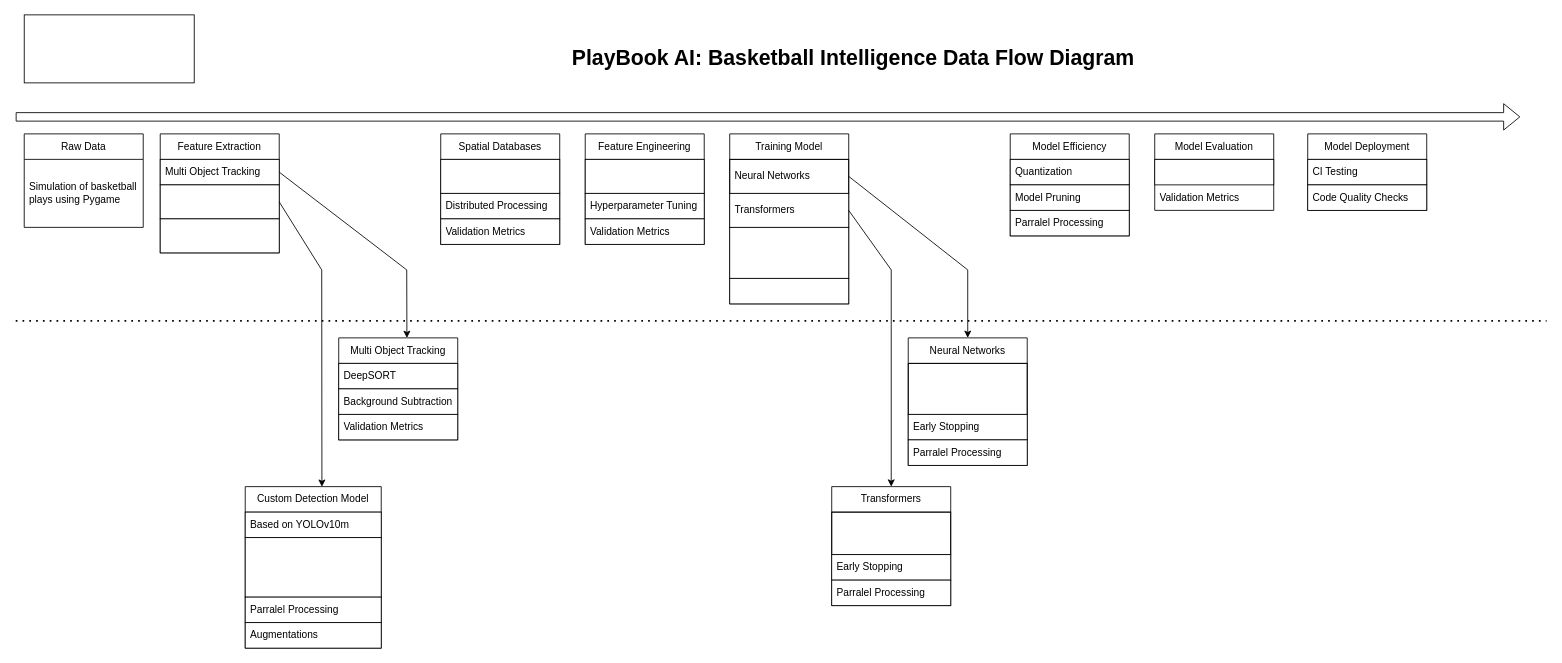
Image size: 1562x663. Some labels were removed from this diagram. Here are the shapes that lost their labels. From the top down, the centre of each, then its label:
[108,48]: Cloud Solution - Google Cloud Platform - GPU-accelerated programming
[500,176]: BigQuery to store/process data
[644,176]: Dimensionality Reduction
[1214,172]: Performance Metrics
[219,201]: Custom Object Detection Model
[219,235]: Batch Processing
[789,252]: Ensemble Methods - Voting - Stacking
[789,291]: Paralel Processing
[967,388]: - LSTM - TCN - C3D
[891,533]: - TimeSformer - STN
[312,567]: Validation Metric: 1. mAP50: 94.8% 2. Recall: 82.2% 3. Precision: 78.8%
